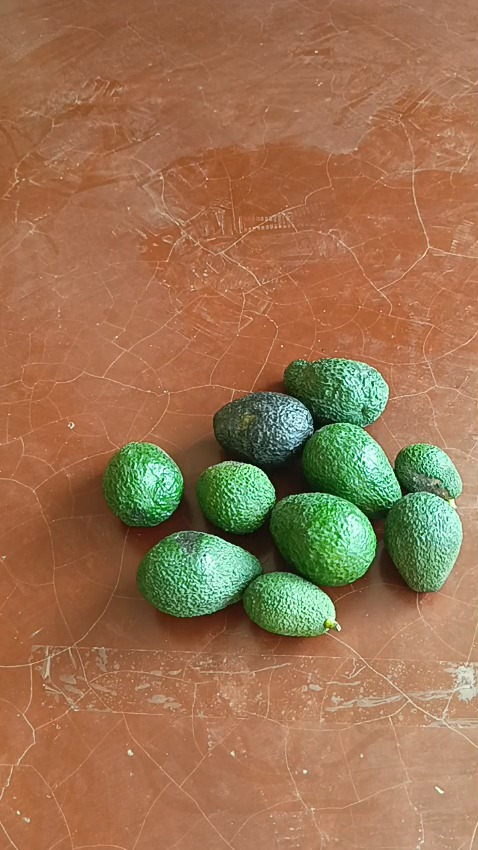Primera: (135, 529, 262, 617), (268, 493, 377, 586), (300, 422, 402, 517), (382, 490, 464, 592), (212, 391, 314, 467), (281, 356, 389, 426)
Segunda: (100, 441, 185, 527), (195, 460, 278, 534)
Tercera: (241, 571, 340, 635), (392, 442, 463, 502)
